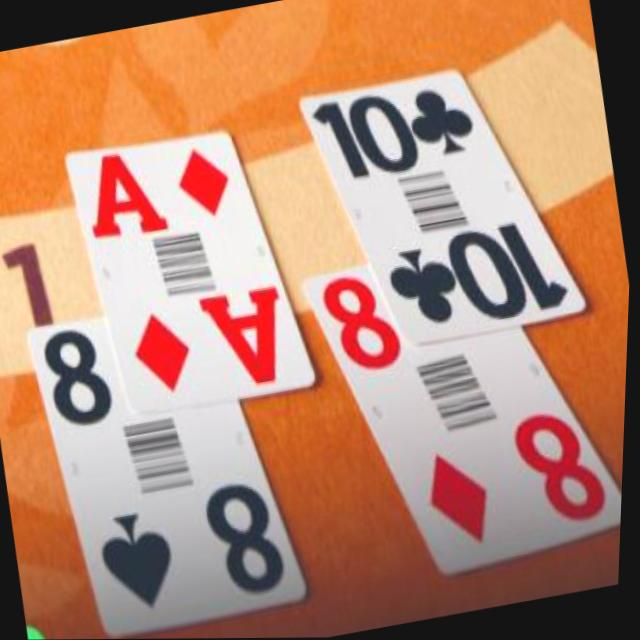Card-10: (300, 67, 588, 347)
Card-8: (305, 264, 625, 578), (31, 317, 312, 639)
Card-A: (66, 127, 318, 411)
